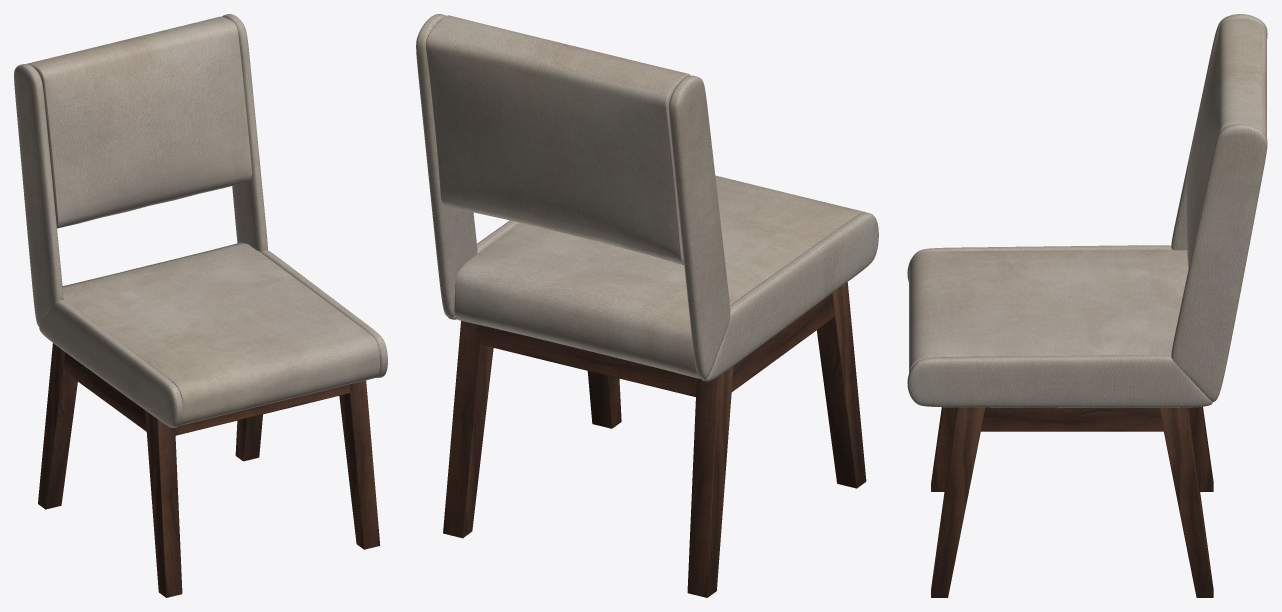
File: chair 2.2.glb
3 views of the same model, side by side, from view 1: azimuth 30°, elevation 25°; view 2: azimuth 150°, elevation 25°; view 3: azimuth 270°, elevation 25° (orthographic). The views are drawn at different scales.
Visible parts, largest first — view 1: Box2131642897; view 2: Box2131642897; view 3: Box2131642897.
Boxes of the visible parts, bbox=[...] form: Box2131642897: bbox=[14, 14, 387, 597]; Box2131642897: bbox=[416, 14, 878, 597]; Box2131642897: bbox=[907, 14, 1267, 597].
Bounding box in the file's own units: 0.524 × 0.9926 × 0.6884.
Materials: 2 (2 with a texture image).
